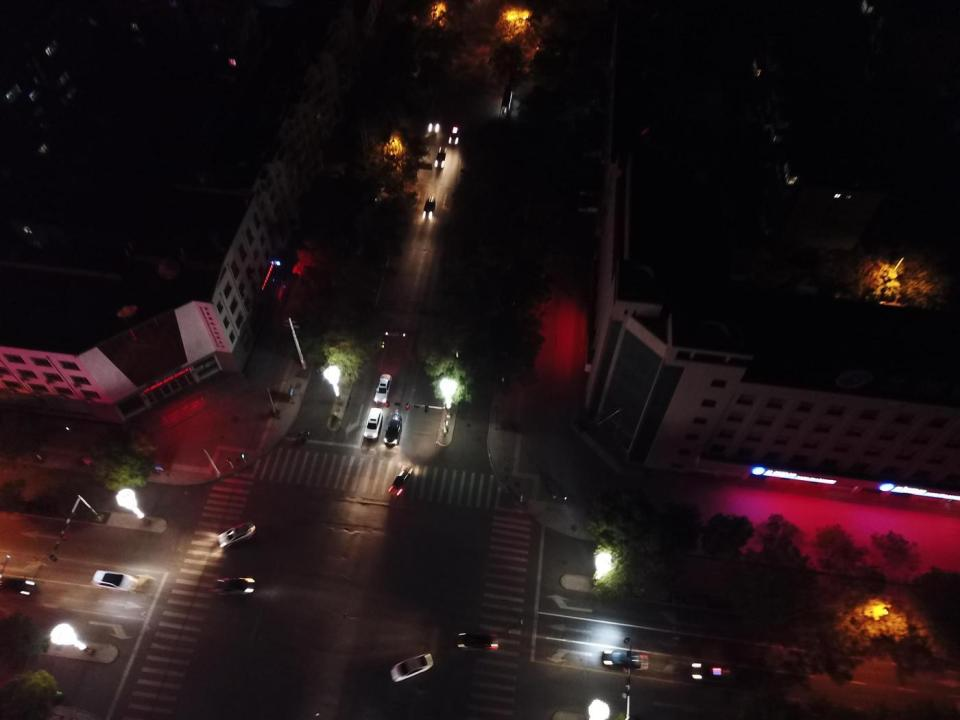car: (390, 652, 434, 682), (690, 662, 735, 685), (91, 570, 138, 592), (218, 520, 256, 546), (601, 651, 649, 671), (389, 465, 413, 496), (458, 633, 498, 651), (213, 578, 255, 595), (0, 577, 38, 595), (385, 413, 402, 446), (364, 408, 382, 439), (373, 373, 391, 403), (421, 195, 436, 219), (433, 146, 446, 167), (448, 121, 459, 144), (427, 114, 440, 133)
